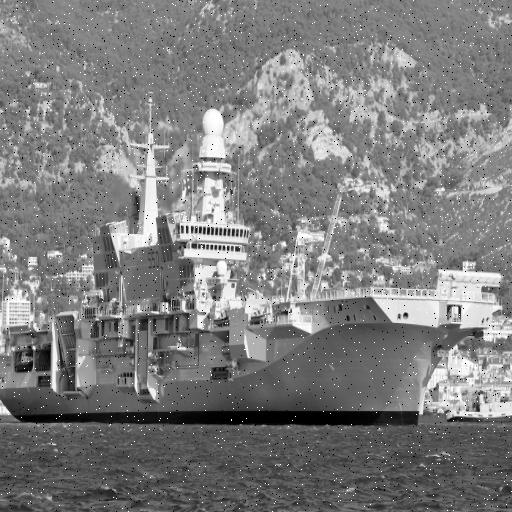Portanaves: (1, 100, 508, 429)
